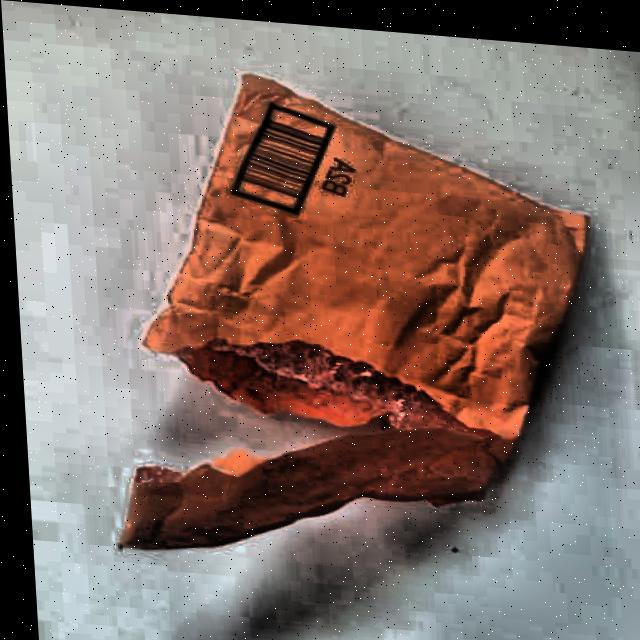paper: (68, 42, 622, 623)
